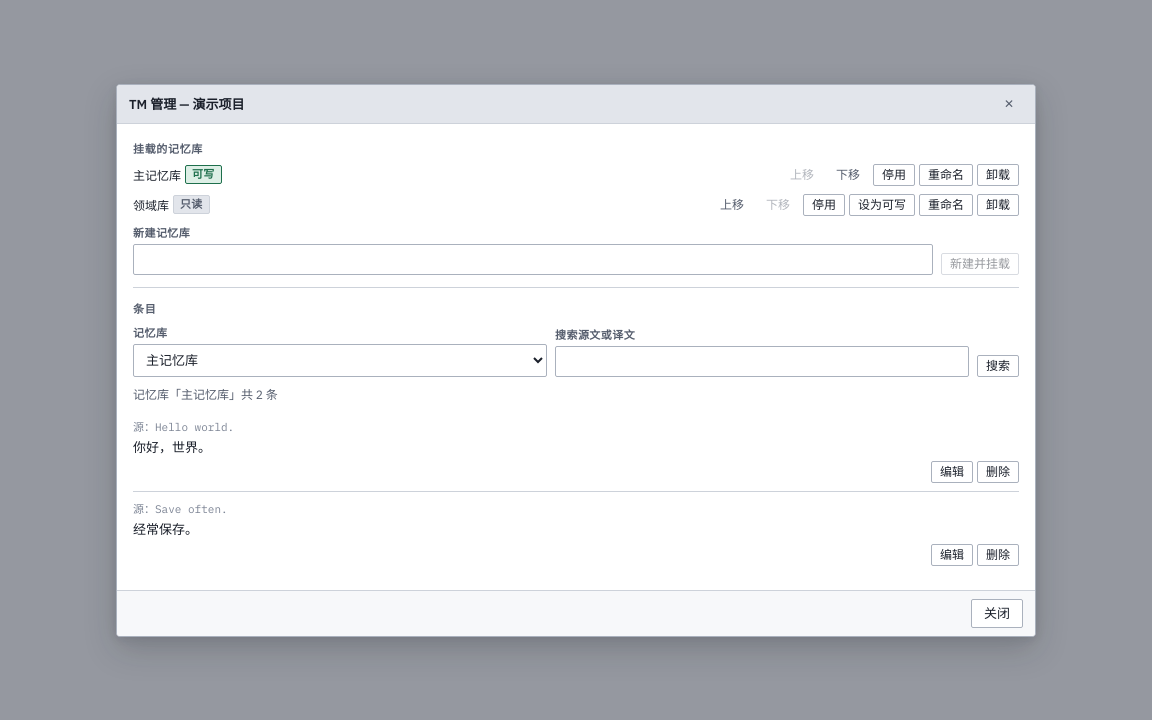
TmManageDialog › detaches a mount and keeps its entries
Click the button with aria-label "卸载记忆库 领域库" at (998, 204), box x1=977 y1=194 x2=1019 y2=216
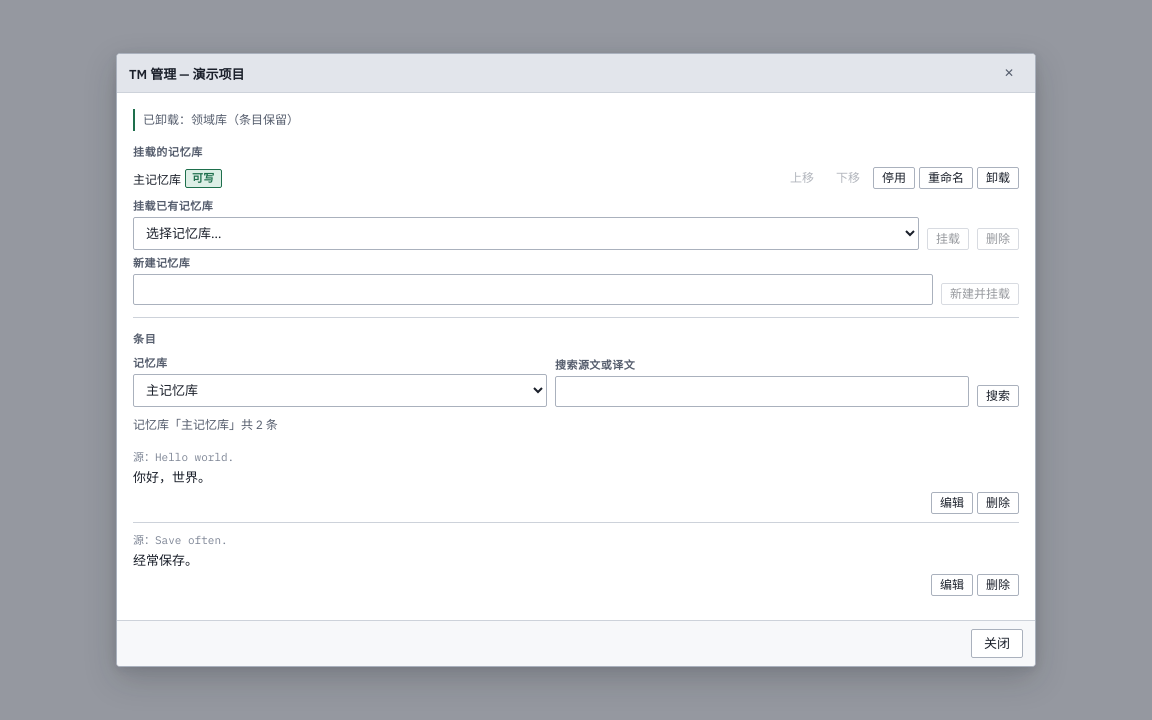
Check: the message reads "已卸载：领域库（条目保留）", box x1=143 y1=112 x2=299 y2=127
